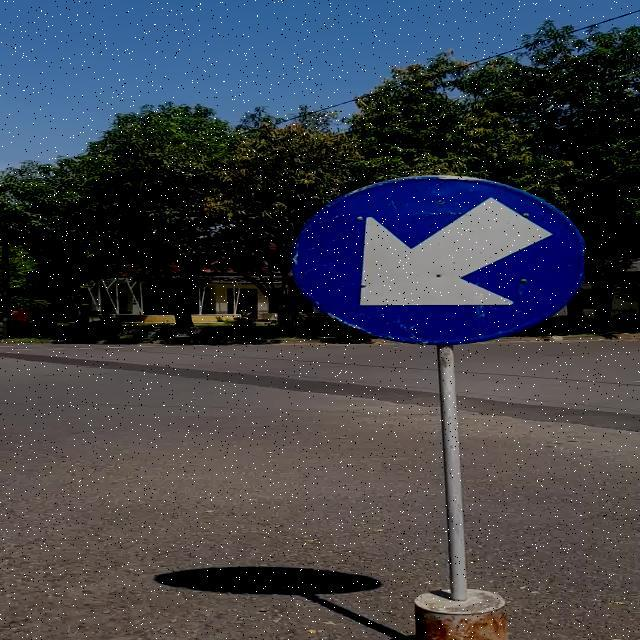Lajur Kiri: (290, 174, 586, 344)
